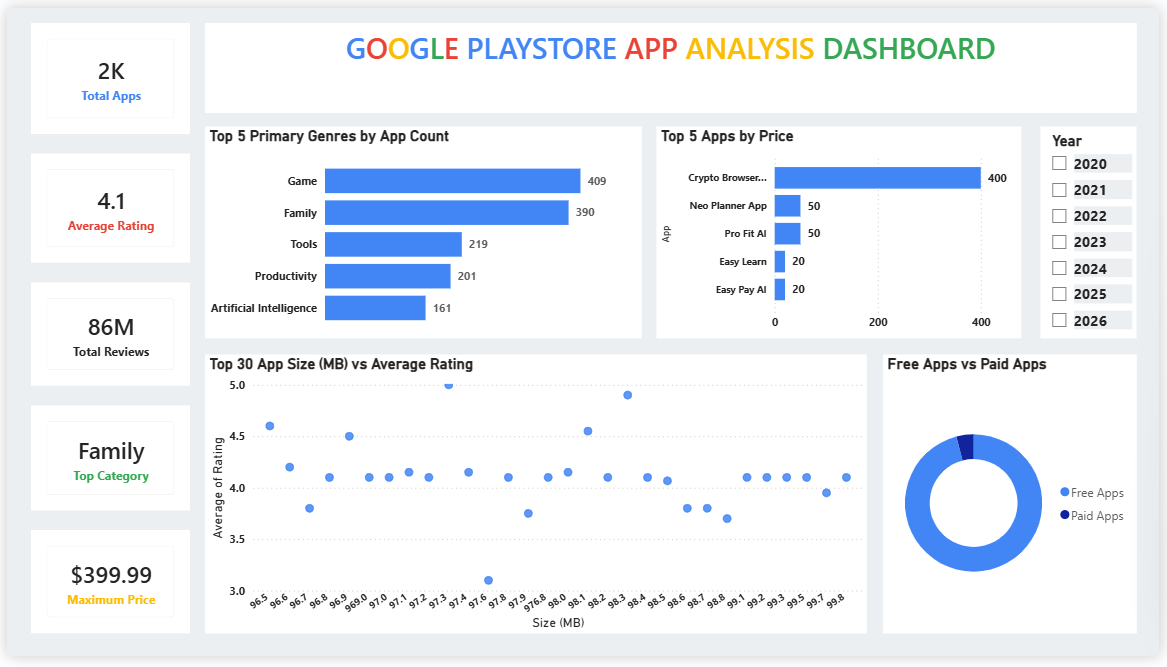

This screenshot's page, from the dashboard's own definition file:
{"tool":"powerbi","page":{"name":"Dashboard","canvas":[1280,720],"ordinal":0},"visuals":[{"type":"textbox","box":[220,16.7,1035,100],"z":0},{"type":"cardVisual","fields":{"Data":["Avg(google_playstore_2026.Rating)"]},"box":[26.7,161.9,176.7,121.3],"z":2000},{"type":"cardVisual","fields":{"Data":["Sum(google_playstore_2026.Reviews)"]},"box":[26.7,304.9,176.7,114.8],"z":3000},{"type":"cardVisual","fields":{"Data":["google_playstore_2026.Top Category"]},"box":[26.7,441.5,176.7,117],"z":4000},{"type":"cardVisual","fields":{"Data":["Max(google_playstore_2026.Price)"]},"box":[26.7,580.2,176.7,114.8],"z":5000},{"type":"clusteredBarChart","title":"Top 5 Primary Genres by App Count","fields":{"Y":["CountNonNull(google_playstore_2026.App)"],"Category":["google_playstore_2026.Primary Genres"]},"box":[220,131.7,485,235],"z":6000},{"type":"scatterChart","title":"Top 30 App Size (MB) vs Average Rating","fields":{"Y":["Avg(google_playstore_2026.Rating)"],"X":["google_playstore_2026.Size (MB)"]},"box":[220,385,735,310],"z":7000},{"type":"slicer","fields":{"Values":["google_playstore_2026.Year"]},"box":[1148.3,131.7,106.7,235],"z":8000},{"type":"clusteredBarChart","title":"Top 5 Apps by Price","fields":{"Y":["Sum(google_playstore_2026.Price)"],"Category":["google_playstore_2026.App"]},"box":[721.7,131.7,405,235],"z":9000},{"type":"donutChart","title":"Free Apps vs Paid Apps","fields":{"Y":["google_playstore_2026.Free Apps","google_playstore_2026.Paid Apps"]},"box":[973.3,385,281.7,310],"z":10000},{"type":"cardVisual","title":"Total Apps","fields":{"Data":["Count(google_playstore_2026.App)"]},"box":[26.7,16.7,176.7,123.5],"z":12000}]}

Visuals, with their boxes in screenshot pixels (x1, y1, x2, y2), scaled from the page's 1280x720 canvas onto the 1167x667 screenshot:
textbox: 201, 15, 1144, 108
cardVisual - Avg(google_playstore_2026.Rating): 24, 150, 185, 262
cardVisual - Sum(google_playstore_2026.Reviews): 24, 282, 185, 389
cardVisual - google_playstore_2026.Top Category: 24, 409, 185, 517
cardVisual - Max(google_playstore_2026.Price): 24, 537, 185, 644
"Top 5 Primary Genres by App Count" clusteredBarChart: 201, 122, 643, 340
"Top 30 App Size (MB) vs Average Rating" scatterChart: 201, 357, 871, 644
slicer - google_playstore_2026.Year: 1047, 122, 1144, 340
"Top 5 Apps by Price" clusteredBarChart: 658, 122, 1027, 340
"Free Apps vs Paid Apps" donutChart: 887, 357, 1144, 644
"Total Apps" cardVisual: 24, 15, 185, 130
